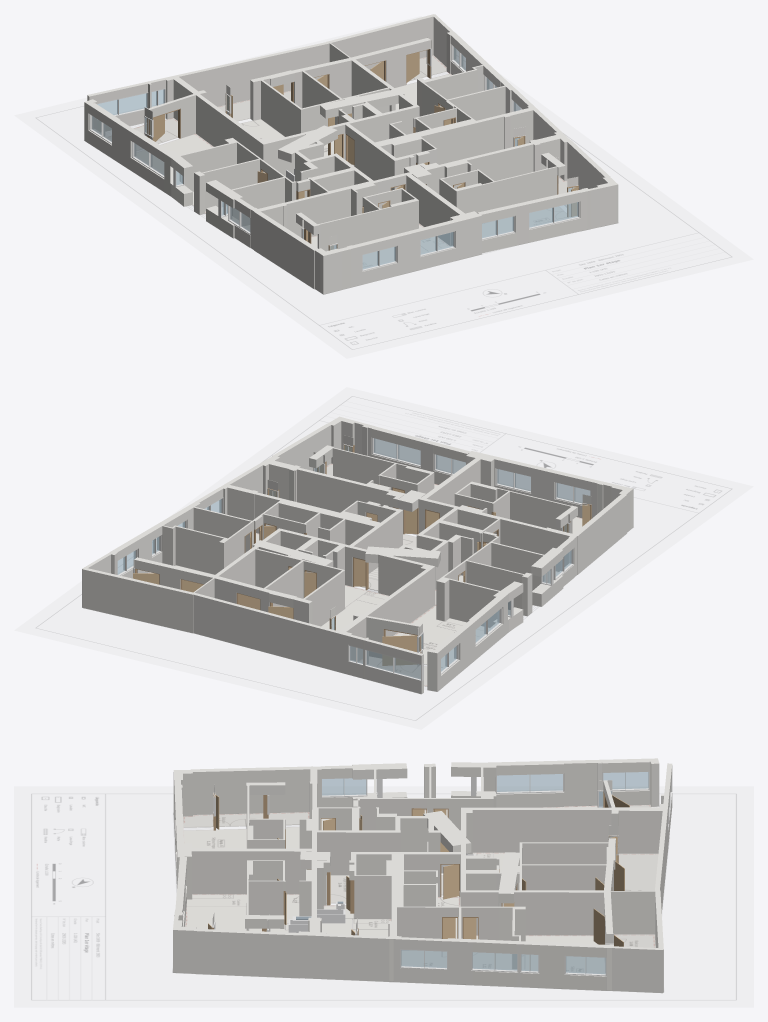
3 renders of one model, top to bottom at view 1: azimuth 30°, elevation 25°; view 2: azimuth 150°, elevation 25°; view 3: azimuth 270°, elevation 25°, orthographic. The views are drawn at different scales.
Visible parts, largest first — view 1: plan_floor, wall-31, wall-5, wall-16, wall-21, wall-63, wall-39, wall-2, wall-35, wall-44, wall-53, wall-19 (+30 smaller); view 2: plan_floor, wall-31, wall-63, wall-5, wall-16, wall-21, wall-58, wall-35, wall-28, wall-2, wall-39, wall-11 (+30 smaller); view 3: plan_floor, wall-16, wall-31, wall-21, wall-5, wall-55, wall-53, wall-44, wall-56, wall-35, wall-59, wall-20 (+47 smaller).
Part boxes in pixels (<box>): plan_floor: <box>14,16,753,358</box>; wall-31: <box>354,105,537,190</box>; wall-5: <box>250,140,390,249</box>; wall-16: <box>164,75,329,176</box>; wall-21: <box>327,55,419,159</box>; wall-63: <box>175,42,328,106</box>; wall-39: <box>439,164,563,213</box>; wall-2: <box>313,188,418,251</box>; wall-35: <box>419,131,570,194</box>; wall-44: <box>403,172,481,260</box>; wall-53: <box>254,210,318,289</box>; wall-19: <box>250,76,327,136</box>; plan_floor: <box>14,387,753,729</box>; wall-31: <box>220,484,402,573</box>; wall-63: <box>203,595,339,671</box>; wall-5: <box>399,502,577,589</box>; wall-16: <box>336,550,435,674</box>; wall-21: <box>204,528,354,603</box>; wall-58: <box>82,568,194,632</box>; wall-35: <box>259,455,405,533</box>; wall-28: <box>157,523,244,574</box>; wall-2: <box>454,481,575,533</box>; wall-39: <box>327,445,434,493</box>; wall-11: <box>436,566,509,636</box>; plan_floor: <box>14,786,753,1007</box>; wall-16: <box>460,798,668,854</box>; wall-31: <box>349,852,441,982</box>; wall-21: <box>459,851,611,935</box>; wall-5: <box>299,766,440,875</box>; wall-55: <box>195,928,299,978</box>; wall-53: <box>191,766,312,814</box>; wall-44: <box>177,842,316,899</box>; wall-56: <box>325,934,389,981</box>; wall-35: <box>298,860,329,979</box>; wall-59: <box>612,946,662,993</box>; wall-20: <box>519,860,613,890</box>.
Bounding box in the file's own units: 29.7 × 2.7 × 42.01.
9 materials, 1 textured.
